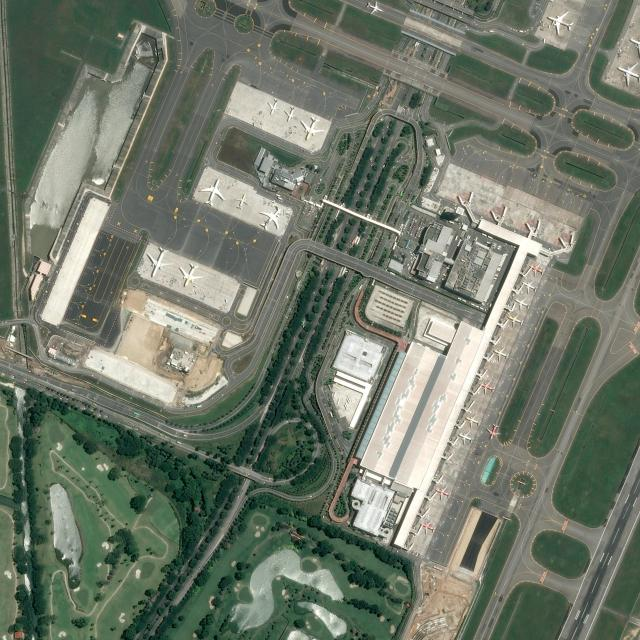1: (618, 60, 640, 84)
aircraft: (145, 245, 173, 278), (547, 9, 573, 36), (200, 177, 224, 206), (300, 115, 325, 142), (178, 262, 203, 288), (258, 204, 282, 230), (234, 192, 250, 210), (486, 424, 502, 441), (366, 1, 383, 16), (266, 97, 280, 115), (493, 346, 508, 362), (522, 279, 538, 293), (514, 296, 530, 310), (508, 313, 524, 327), (436, 484, 450, 500), (420, 520, 436, 534), (284, 104, 296, 122), (479, 380, 494, 394), (458, 431, 473, 445), (530, 262, 544, 276), (466, 414, 480, 428)
